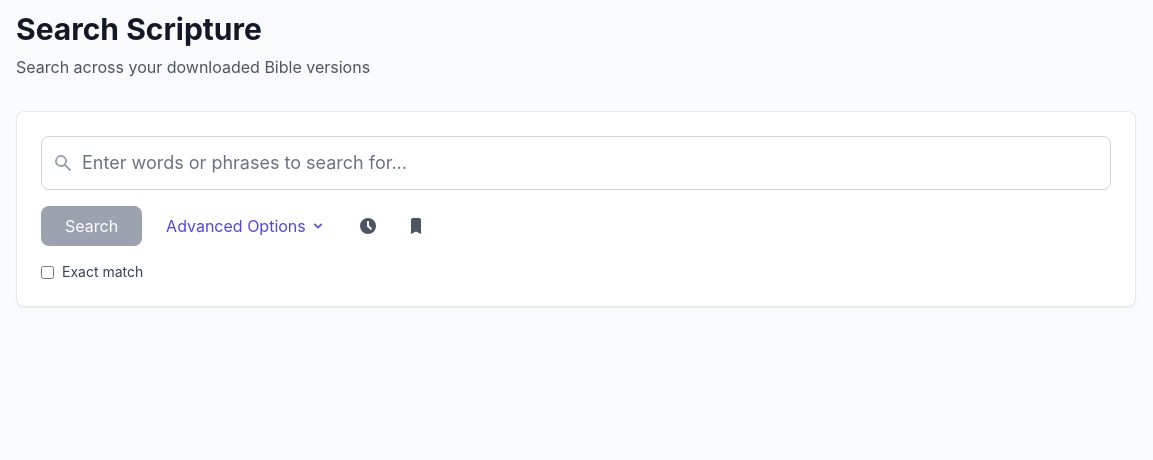
Scenario: SearchView › search history › should display search history items
Note: Open search history
Click the button titled "Search History" at (368, 226), box x1=350 y1=208 x2=386 y2=244
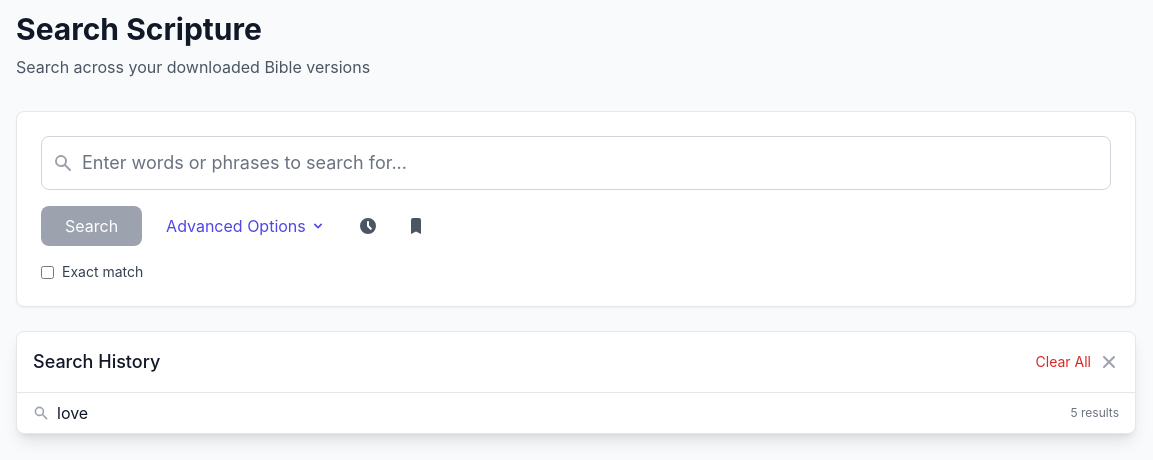
Expected: the text "love" is shown, x1=57 y1=401 x2=88 y2=425
Expected: the text "5 results" is shown, x1=1070 y1=405 x2=1119 y2=421
